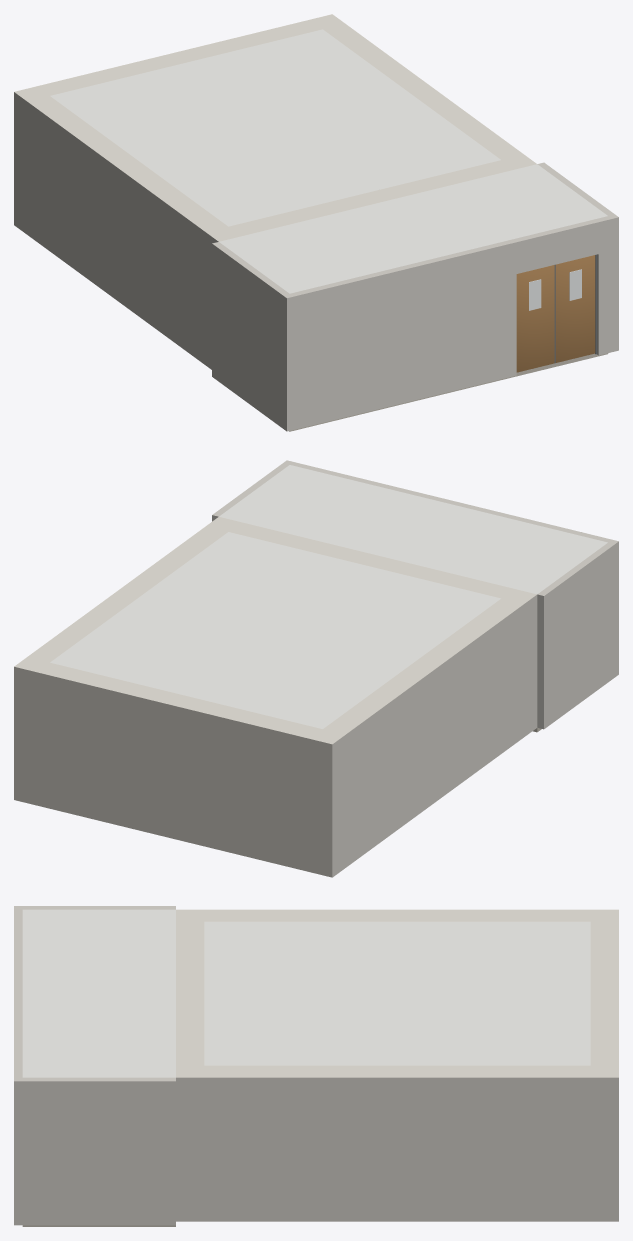
File: hdr_suite.glb
The picture shows the model from 3 angles, top to bottom: view 1: azimuth 30°, elevation 25°; view 2: azimuth 150°, elevation 25°; view 3: azimuth 270°, elevation 25°; orthographic projection. The views are drawn at different scales.
Parts seen in each view (by area): view 1: LM_vault_arch, LM_control, UNLIT; view 2: LM_vault_arch, LM_control; view 3: LM_vault_arch, LM_control.
Part boxes in pixels (<box>): LM_vault_arch: <box>14,14,536,369</box>; LM_control: <box>212,162,618,431</box>; UNLIT: <box>529,269,581,310</box>; LM_vault_arch: <box>14,517,537,877</box>; LM_control: <box>212,460,618,732</box>; LM_vault_arch: <box>176,909,618,1221</box>; LM_control: <box>14,906,175,1226</box>.
Size of the model in its own units: 7.3 by 3.01 by 10.65.
